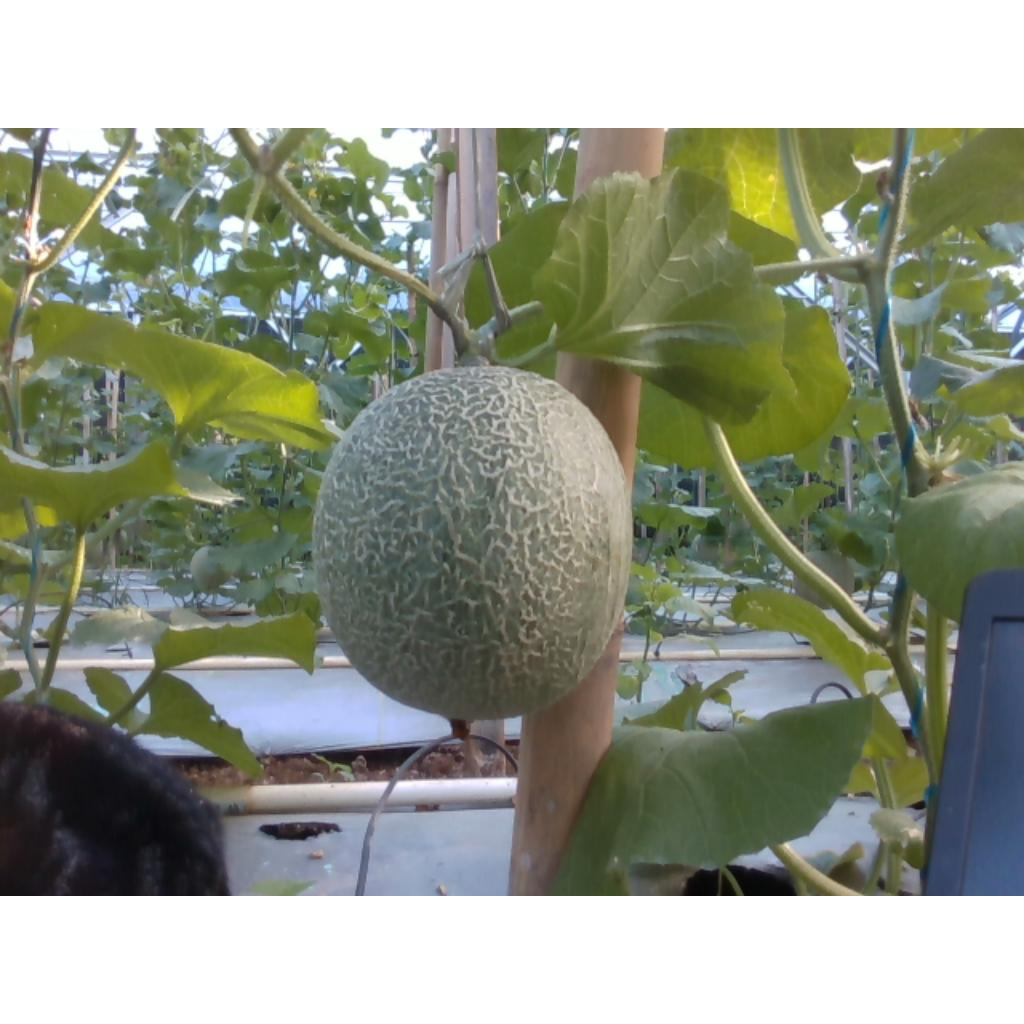melon: (314, 366, 632, 721)
